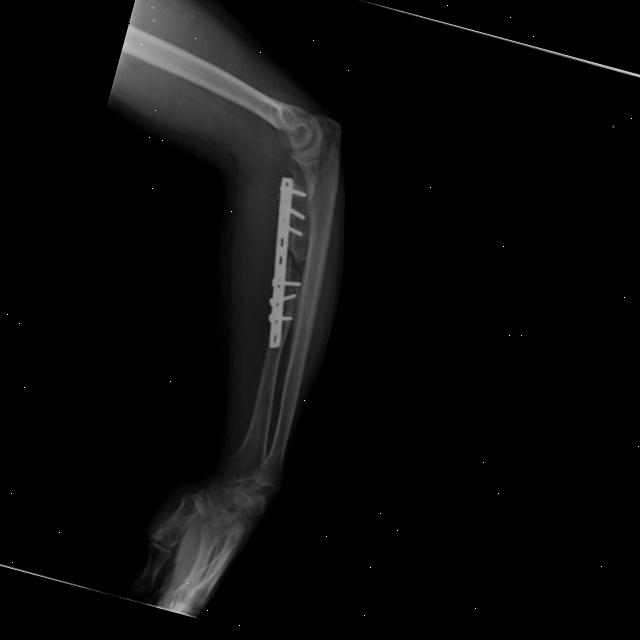Fracture: (280, 228, 310, 323)
